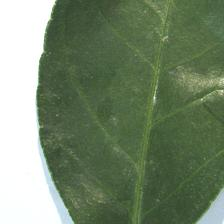healthy: (33, 1, 224, 224)
